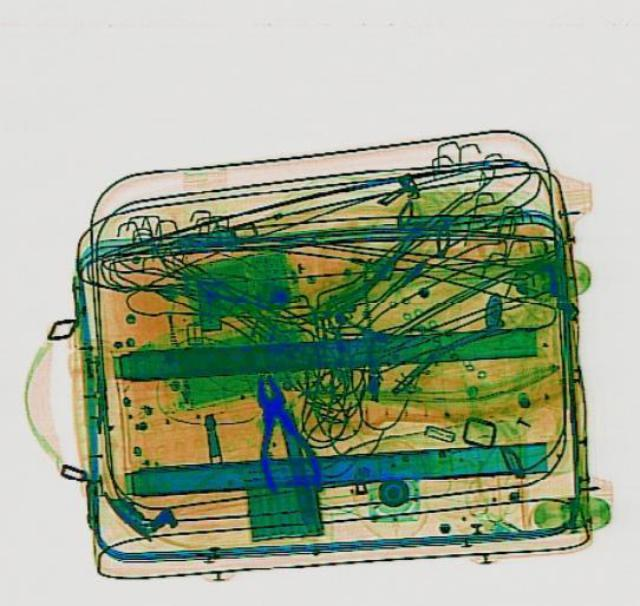Pliers: (235, 368, 322, 495)
